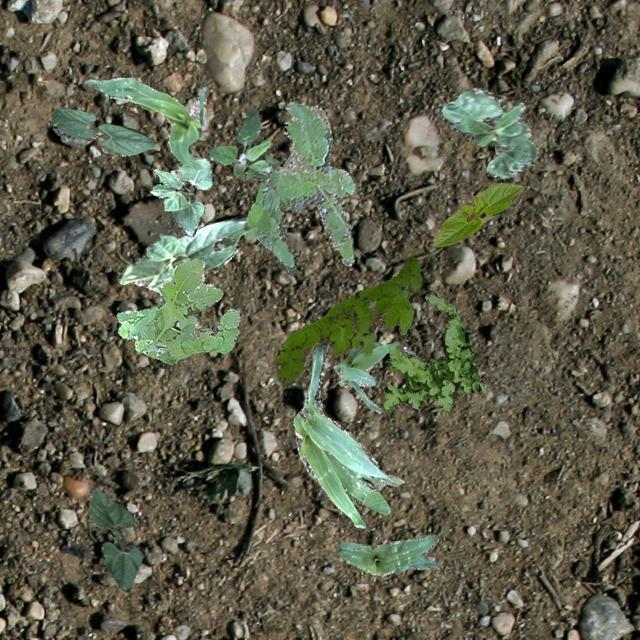crop: (292, 346, 402, 526), (82, 76, 208, 168), (118, 216, 246, 292), (440, 86, 534, 178), (432, 182, 524, 246), (332, 341, 414, 412), (89, 486, 142, 590), (50, 106, 156, 154), (150, 156, 210, 236), (337, 534, 441, 574)
weed: (274, 255, 422, 386), (242, 100, 354, 272), (116, 256, 240, 364), (382, 290, 486, 412), (208, 106, 278, 180)
